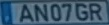0: (49, 3, 62, 23)
7: (61, 3, 72, 21)
A: (18, 3, 35, 23)
G: (74, 2, 89, 21)
N: (32, 3, 49, 22)
R: (89, 2, 102, 21)
